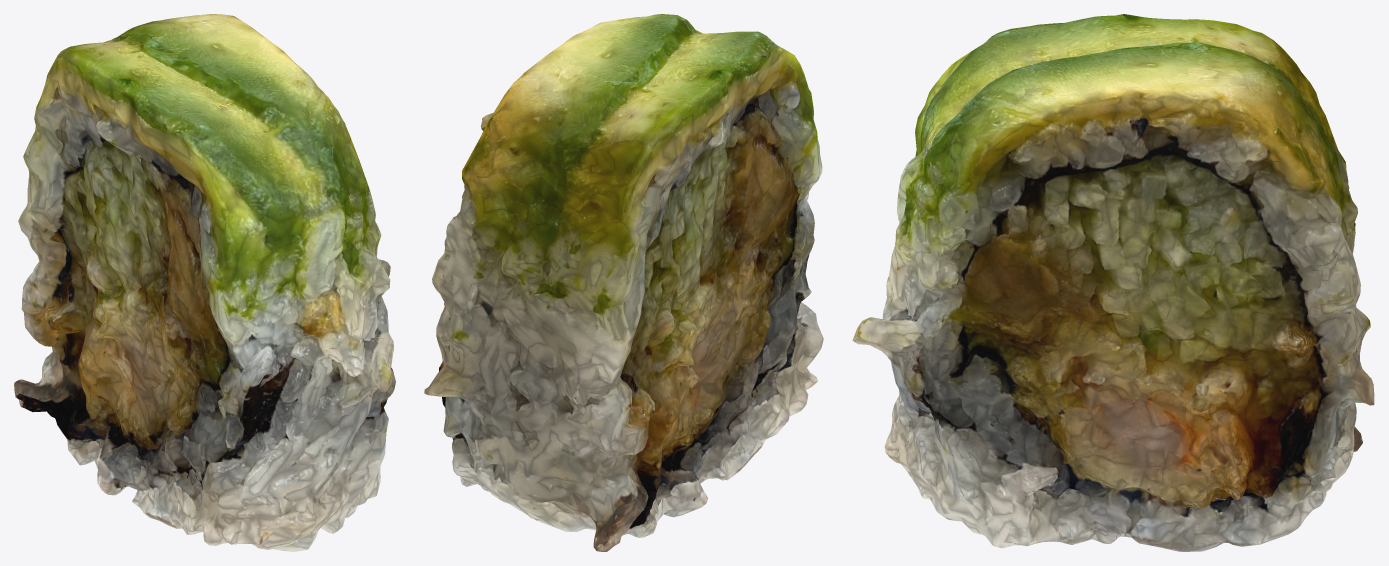
Rendered from Green Dragon Roll Sushi Piece.glb.
3 renders of one model, left to right at view 1: azimuth 30°, elevation 25°; view 2: azimuth 150°, elevation 25°; view 3: azimuth 270°, elevation 25°, orthographic. The views are drawn at different scales.
Visible parts, largest first — view 1: Mesh_0; view 2: Mesh_0; view 3: Mesh_0.
Part boxes in pixels (x1=…): Mesh_0: x1=14, y1=14, x2=395, y2=551; Mesh_0: x1=424, y1=14, x2=823, y2=551; Mesh_0: x1=852, y1=14, x2=1374, y2=551.
Bounding box in the file's own units: 0.2449 × 0.4346 × 0.4509.
Materials: 1 (1 with a texture image).
